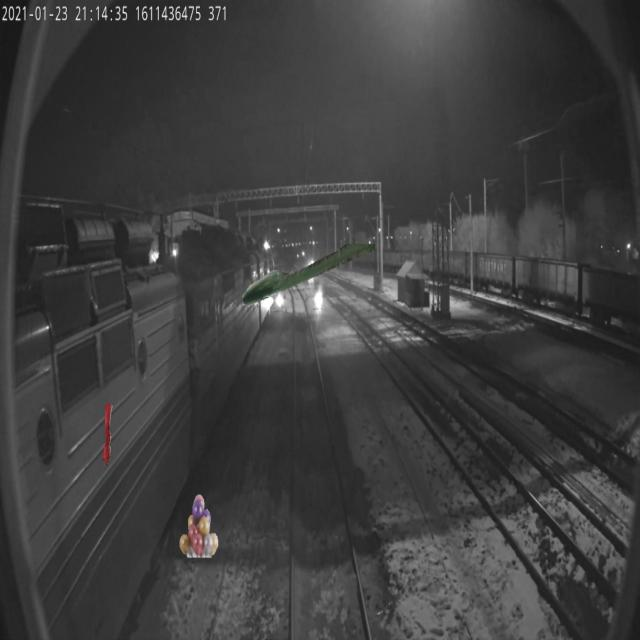balloon: (180, 493, 218, 558)
floating object: (241, 244, 377, 308), (102, 402, 113, 467)
